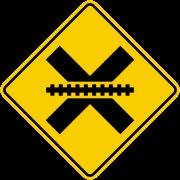Barrier Ahead: (14, 15, 173, 168)
